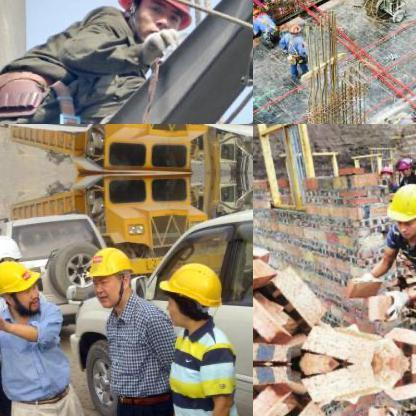Helmet: (158, 259, 224, 325), (114, 0, 197, 42), (83, 242, 135, 308), (0, 258, 43, 309), (384, 181, 415, 238), (0, 234, 20, 270), (394, 156, 414, 176), (377, 162, 393, 181), (286, 19, 300, 35), (253, 5, 263, 18), (409, 106, 415, 122)
